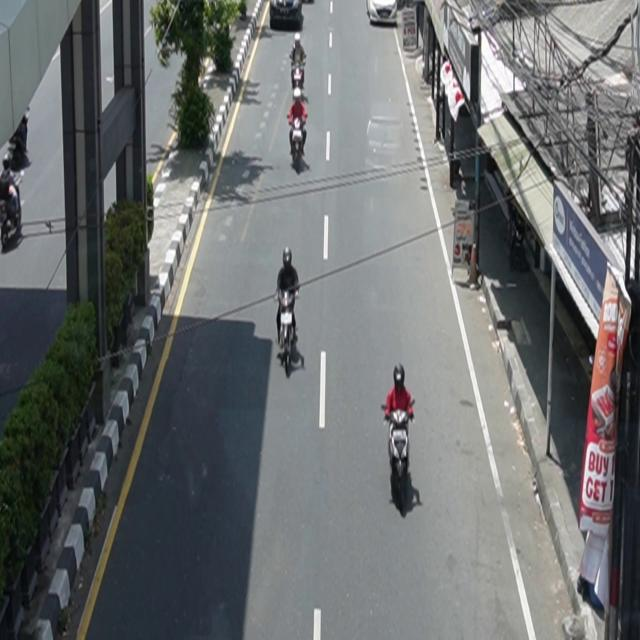car: (270, 1, 305, 31), (367, 1, 398, 26)
